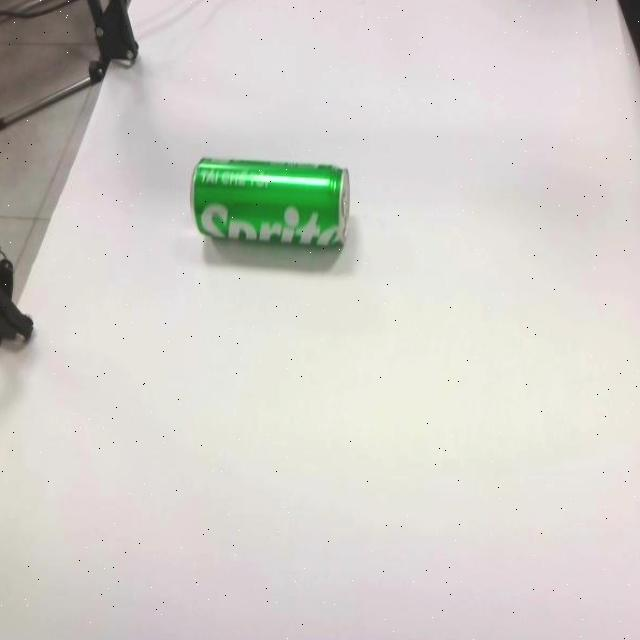debris: (189, 156, 352, 272)
